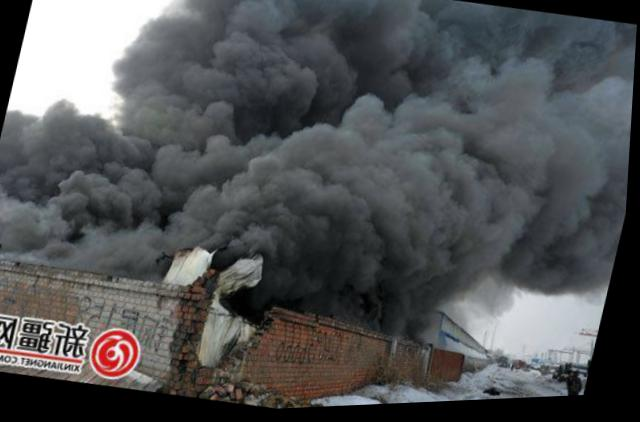smoke: (153, 0, 639, 290), (0, 110, 161, 254), (275, 224, 465, 323), (126, 19, 191, 131)
